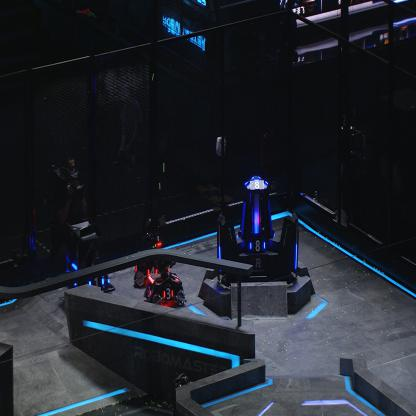car: (60, 221, 115, 307), (133, 218, 176, 286), (142, 252, 185, 307)
